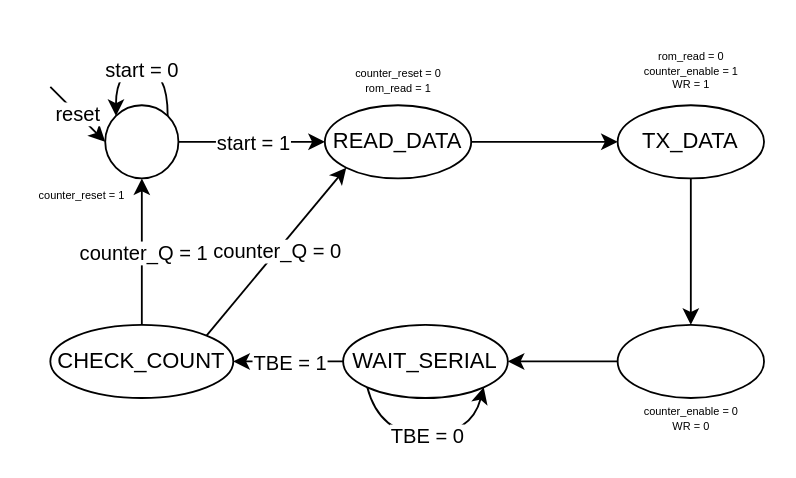
Image size: 796x478. Some labels were removed from this diagram. The centre of each missing label's shape, as x and y in pixels:
IDLE: pixel 140 140
WAIT_TX: pixel 690 360
